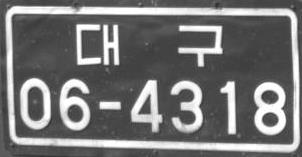0: (18, 76, 52, 131)
1: (214, 79, 248, 134)
3: (170, 80, 204, 133)
4: (129, 77, 162, 133)
6: (58, 77, 91, 131)
8: (253, 80, 287, 135)
대구_D: (75, 23, 225, 68)
